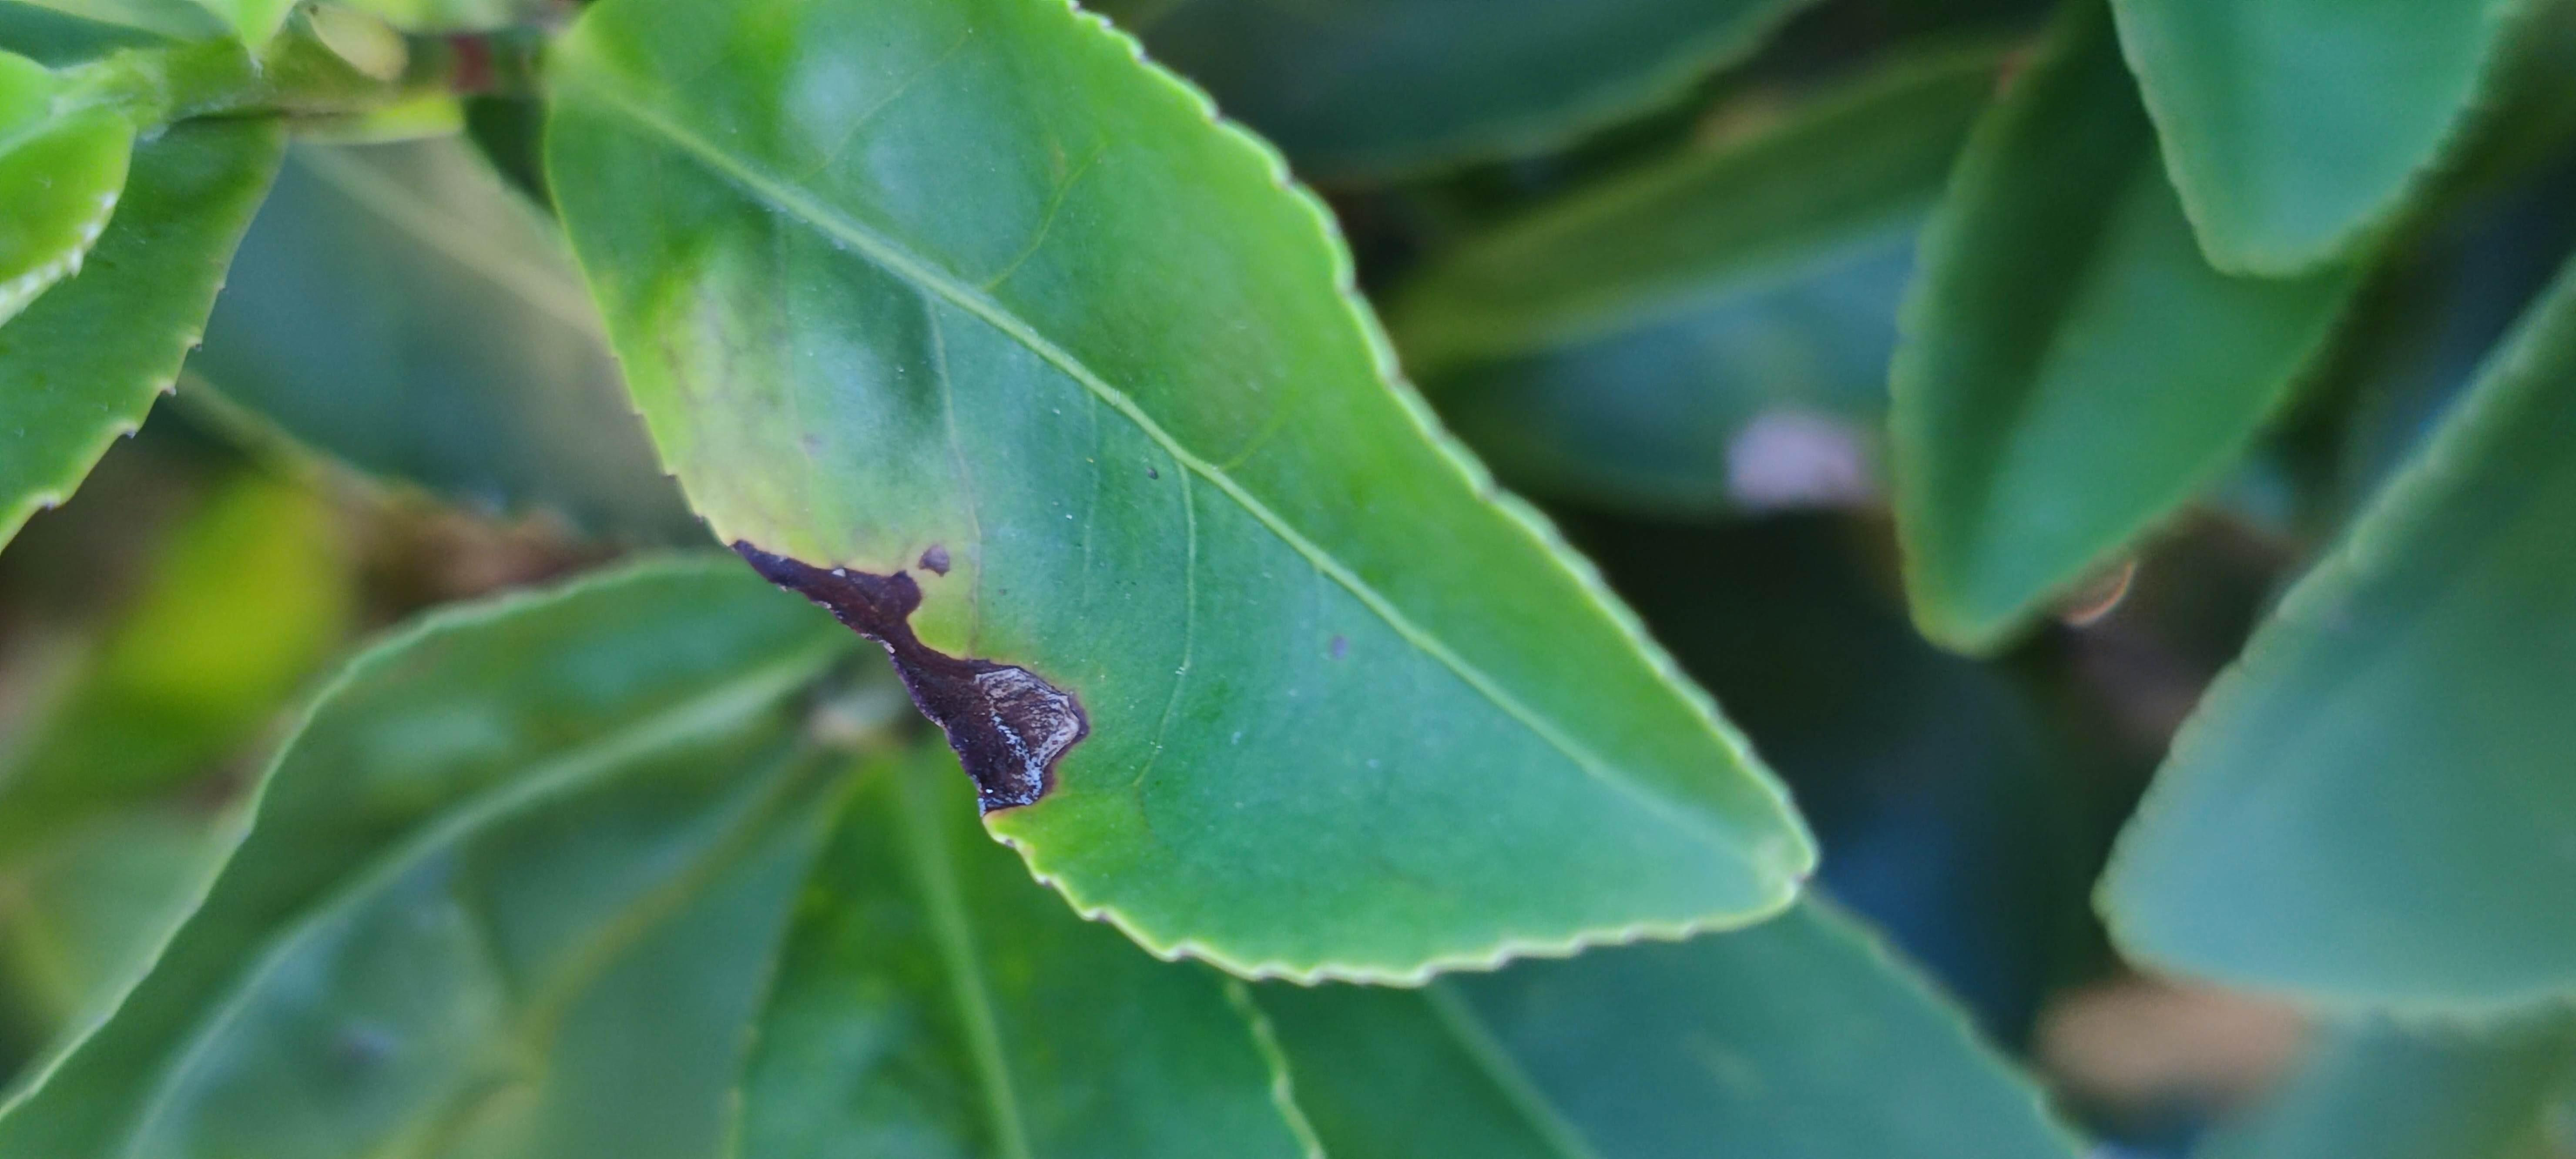tanju_high: (532, 2, 1824, 990)
